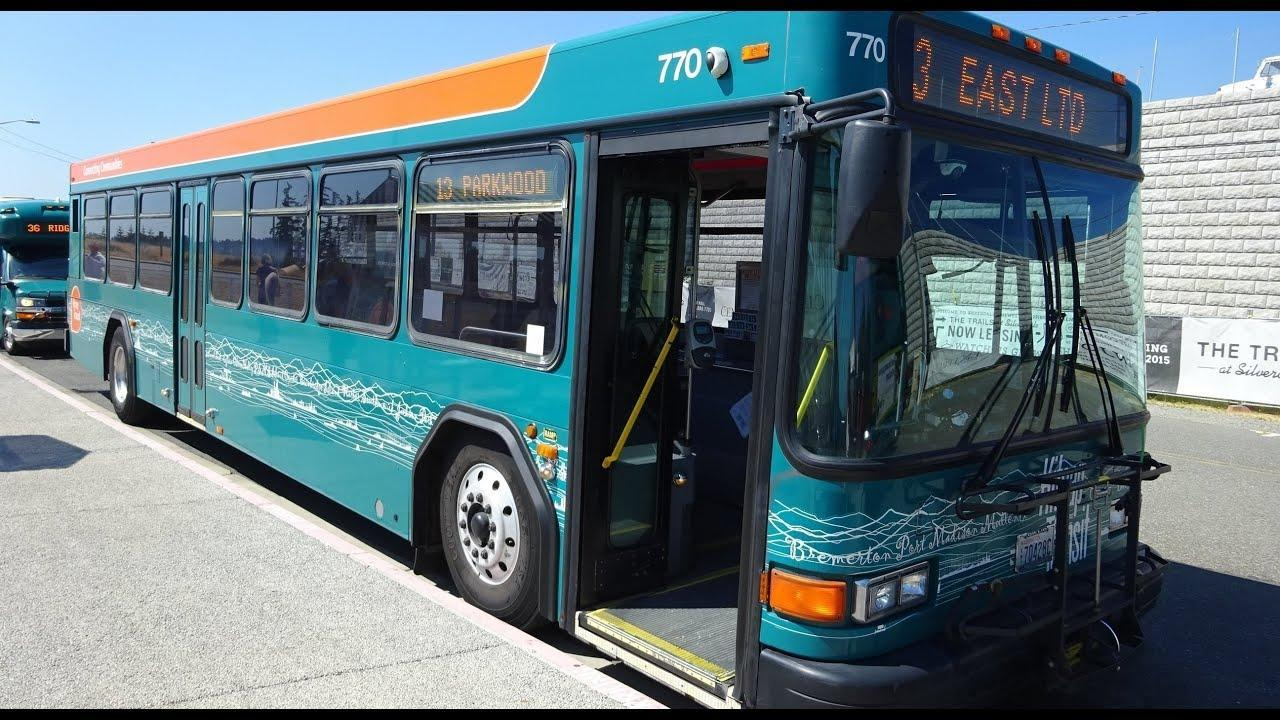Bus: (70, 13, 1160, 704)
